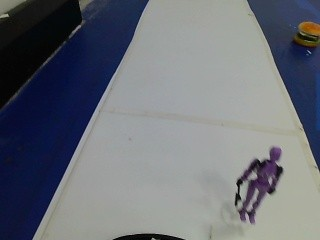burger: (291, 18, 318, 49)
pedestrian: (227, 134, 286, 232)
